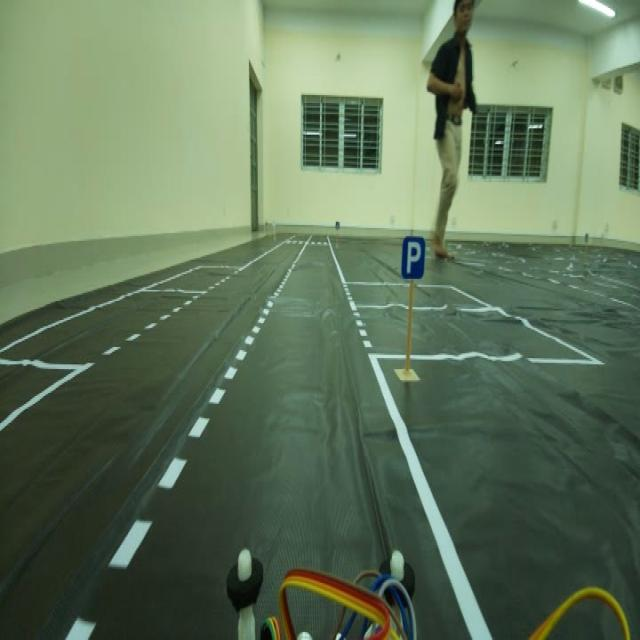parking: (395, 228, 429, 292)
